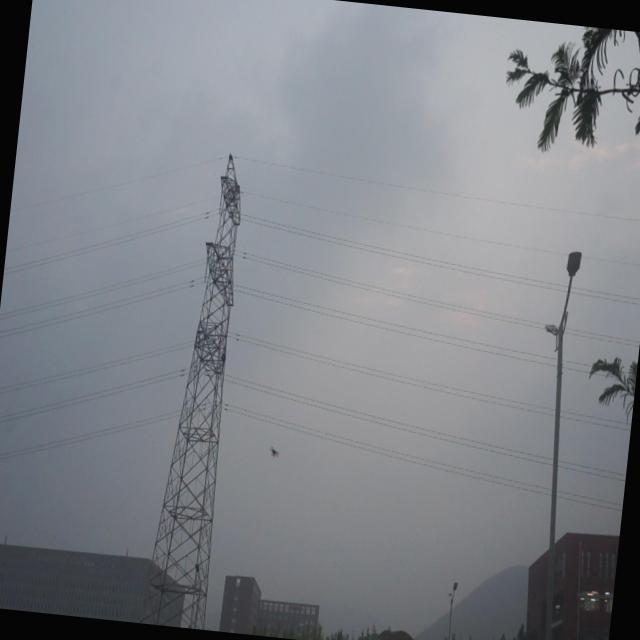drone: (266, 440, 280, 464)
